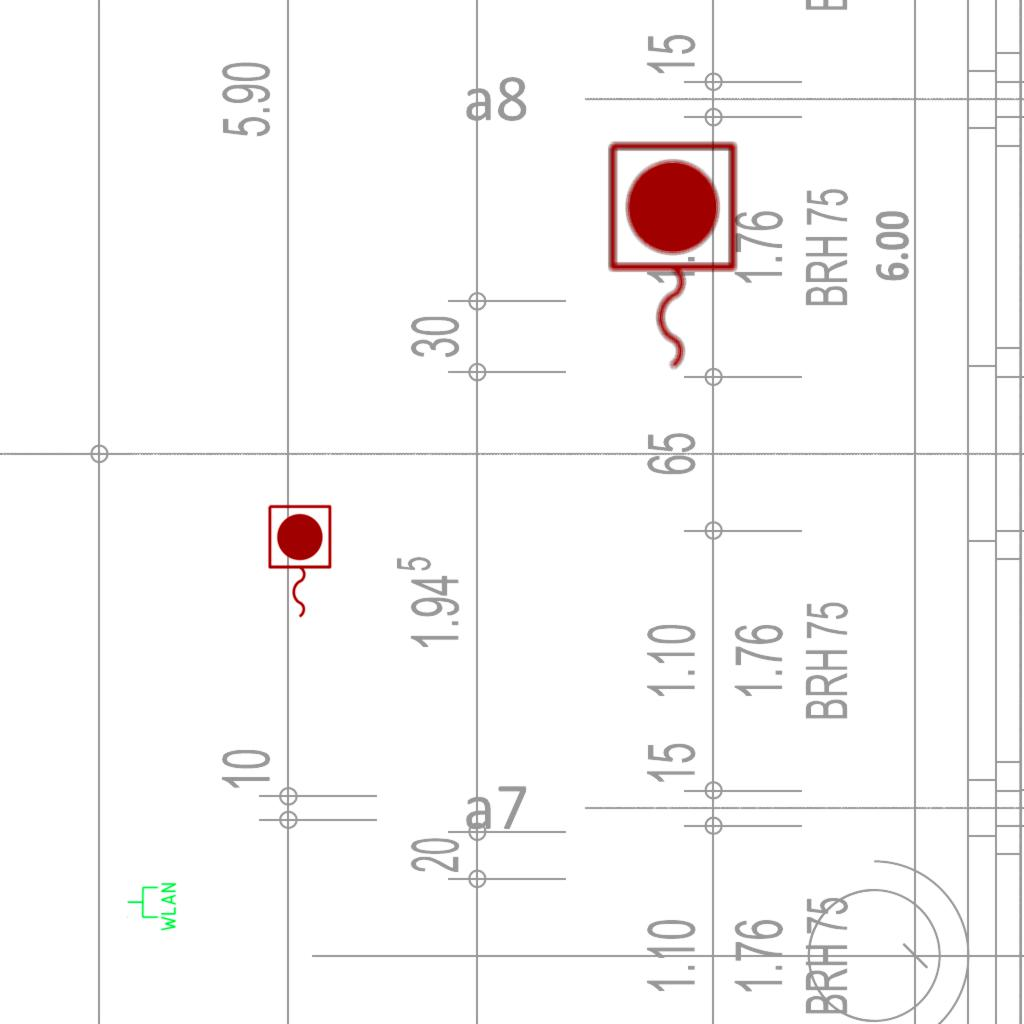WLAN: (126, 881, 178, 933)
Zugtaster: (599, 135, 743, 379), (263, 501, 335, 623)
